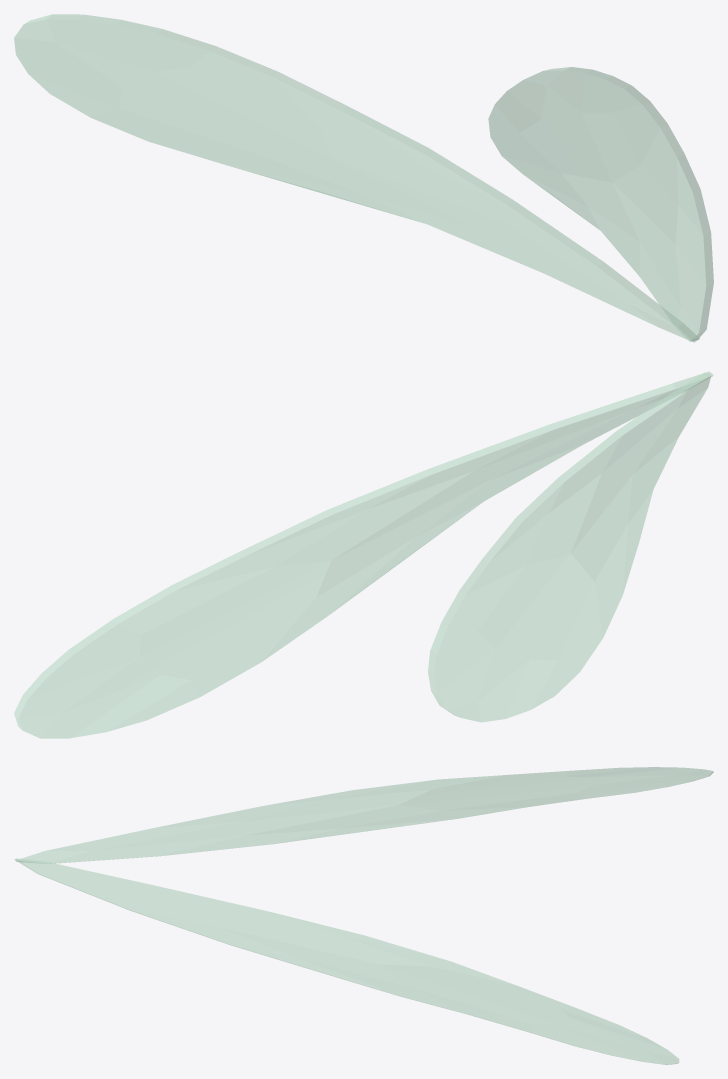
The model's file is LongWings.fbx.
3 views of the same model, one above another, from view 1: azimuth 30°, elevation 25°; view 2: azimuth 150°, elevation 25°; view 3: azimuth 270°, elevation 25° (orthographic). The views are drawn at different scales.
Parts seen in each view (by area): view 1: Wing1.002; view 2: Wing1.002; view 3: Wing1.002.
Part boxes in pixels (x1=…): Wing1.002: x1=14, y1=14, x2=713, y2=342; Wing1.002: x1=14, y1=371, x2=713, y2=738; Wing1.002: x1=14, y1=767, x2=713, y2=1064.
Size of the model in its own units: 13.54 by 3.93 by 19.79.
